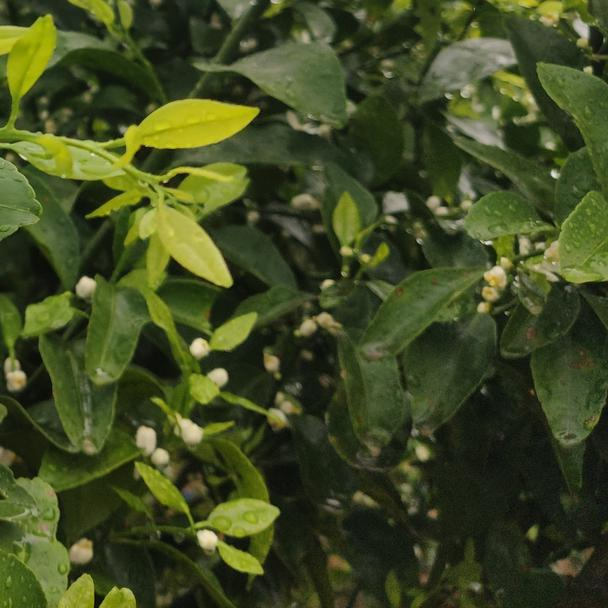shoot: (10, 37, 246, 293)
